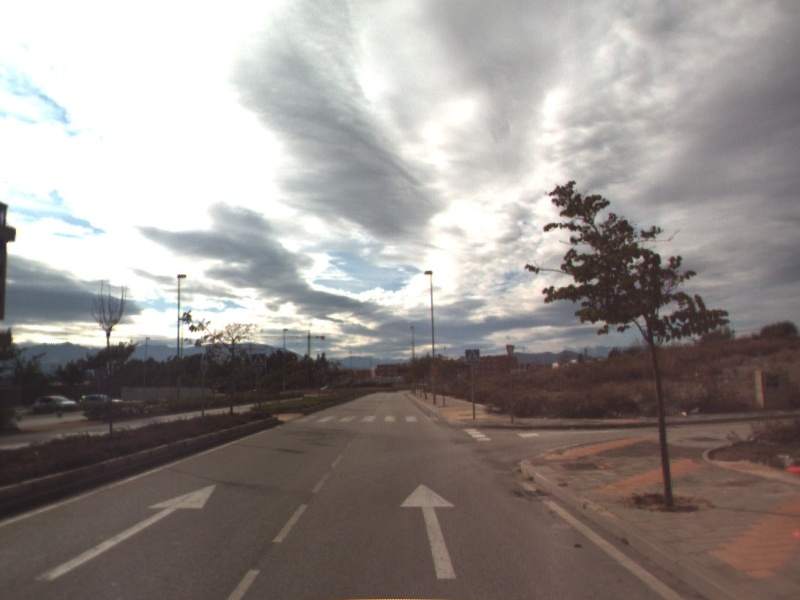STRAIGHT: (31, 482, 219, 583), (397, 481, 458, 581)
